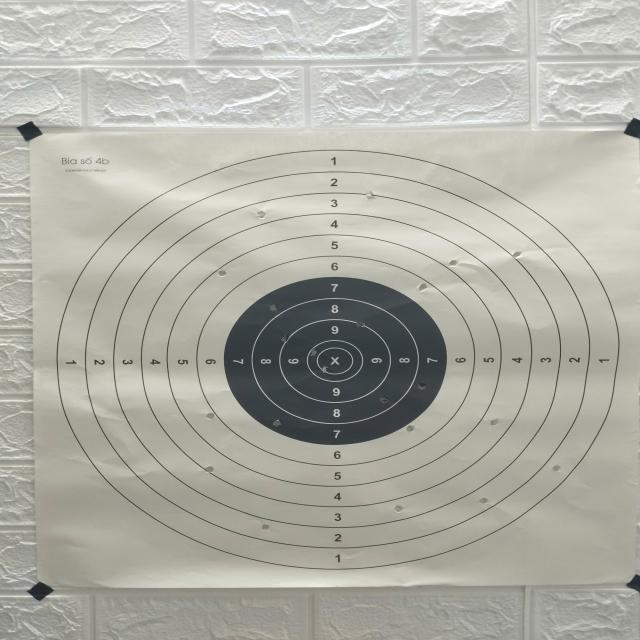bullet: (365, 191, 376, 200), (418, 283, 428, 292), (512, 251, 522, 259), (320, 366, 330, 374), (257, 210, 266, 218), (205, 466, 214, 474), (217, 270, 227, 277), (205, 412, 215, 419), (479, 498, 489, 505), (552, 465, 562, 472), (281, 334, 288, 343), (380, 397, 389, 404), (406, 425, 415, 432), (490, 419, 499, 426), (394, 505, 403, 512), (309, 349, 317, 356), (418, 383, 426, 390), (273, 420, 281, 427), (261, 524, 269, 531), (269, 304, 276, 311), (449, 260, 457, 266), (356, 322, 365, 326)
target: (31, 130, 640, 589)
